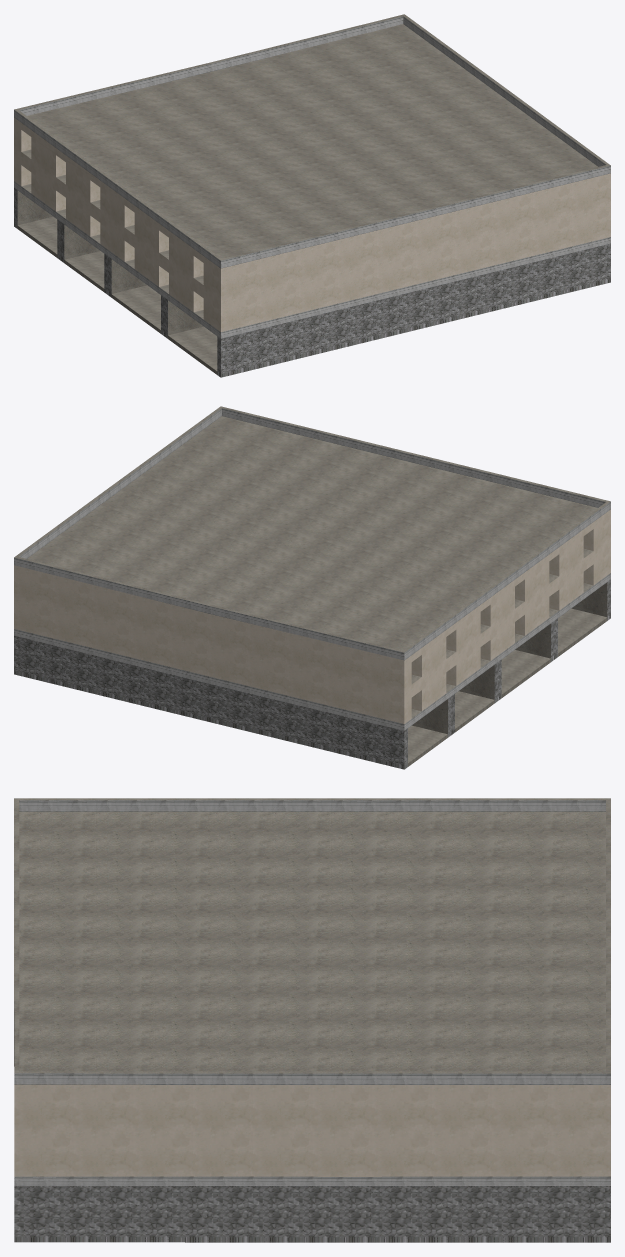
File: vgsebuild03_lvs.obj
3 renders of one model, top to bottom at view 1: azimuth 30°, elevation 25°; view 2: azimuth 150°, elevation 25°; view 3: azimuth 270°, elevation 25°, orthographic. The views are drawn at different scales.
Parts seen in each view (by area): view 1: vgsEbuild03_lvs; view 2: vgsEbuild03_lvs; view 3: vgsEbuild03_lvs.
Boxes of the visible parts, x1=… form: vgsEbuild03_lvs: x1=14, y1=14, x2=610, y2=377; vgsEbuild03_lvs: x1=14, y1=406, x2=610, y2=769; vgsEbuild03_lvs: x1=14, y1=798, x2=610, y2=1242.
Size of the model in its own units: 40 by 11.44 by 36.65.
Materials: 4 (4 with a texture image).
